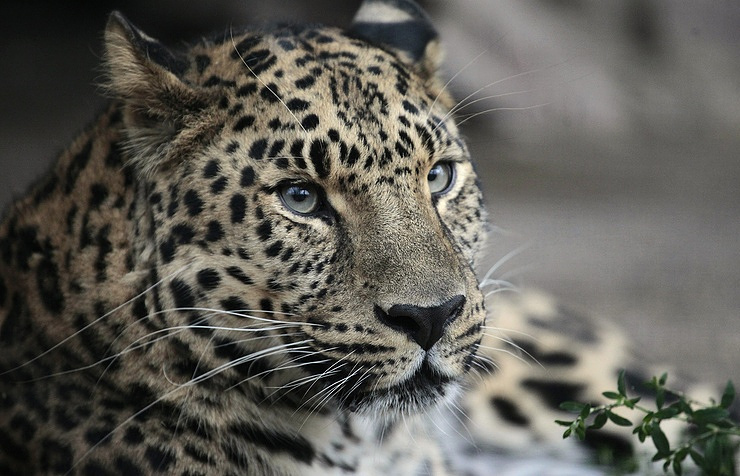amur_leopard: (40, 9, 534, 468)
